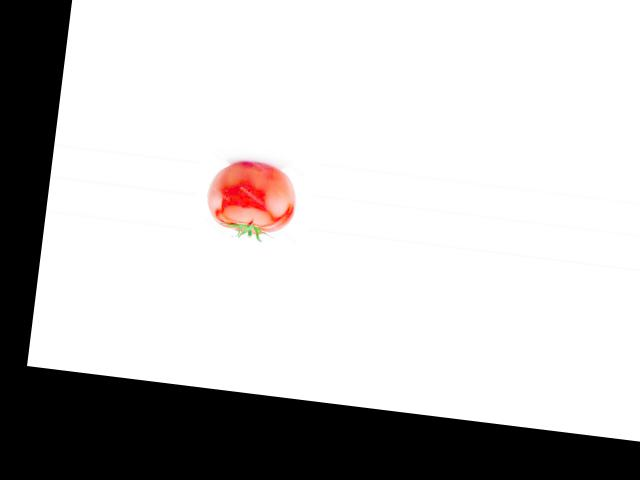tomato: (204, 158, 300, 238)
